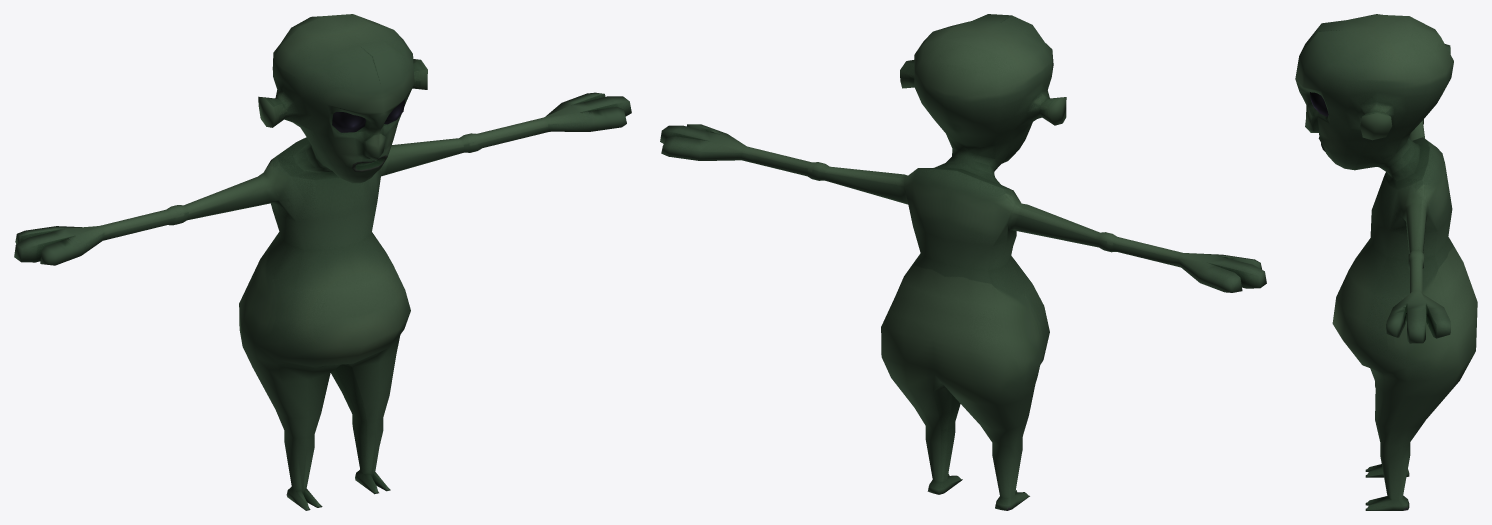
File: Lib_Enemy.fbx
The picture shows the model from 3 angles, left to right: view 1: azimuth 30°, elevation 25°; view 2: azimuth 150°, elevation 25°; view 3: azimuth 270°, elevation 25°; orthographic projection.
Parts seen in each view (by area): view 1: Alien; view 2: Alien; view 3: Alien.
Boxes of the visible parts, box(x1,y1,x2,y2) form: Alien: box(14, 14, 631, 510); Alien: box(660, 14, 1266, 510); Alien: box(1295, 14, 1477, 510).
Bounding box in the file's own units: 667 × 487 × 173.
Materials: 1 (1 with a texture image).
